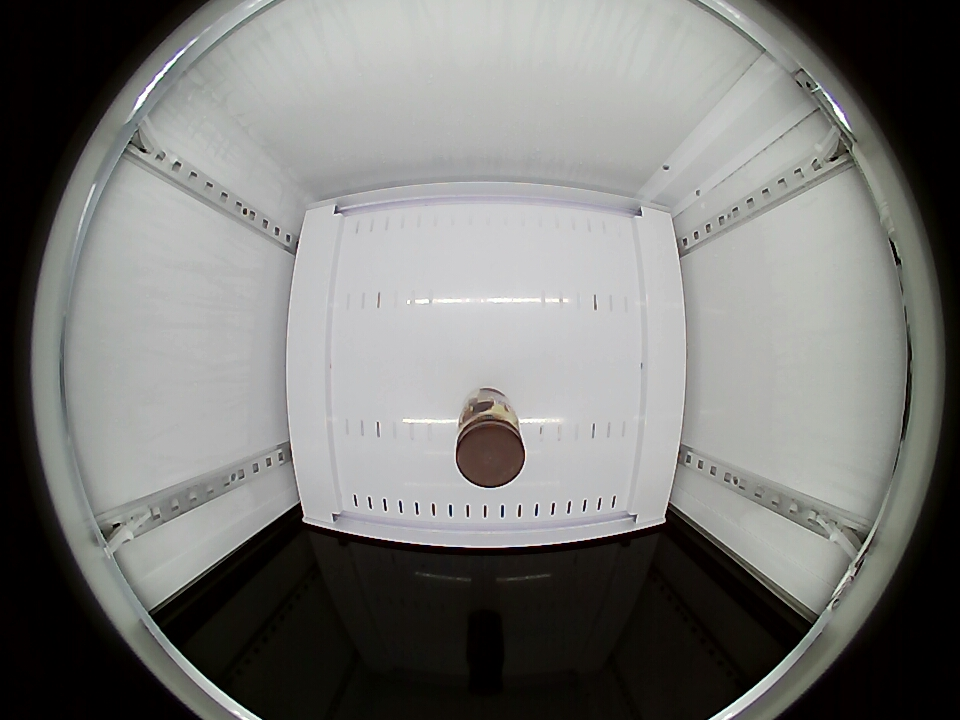lujikafei: (454, 398, 526, 488)
